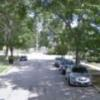cars: (66, 64, 92, 87)
